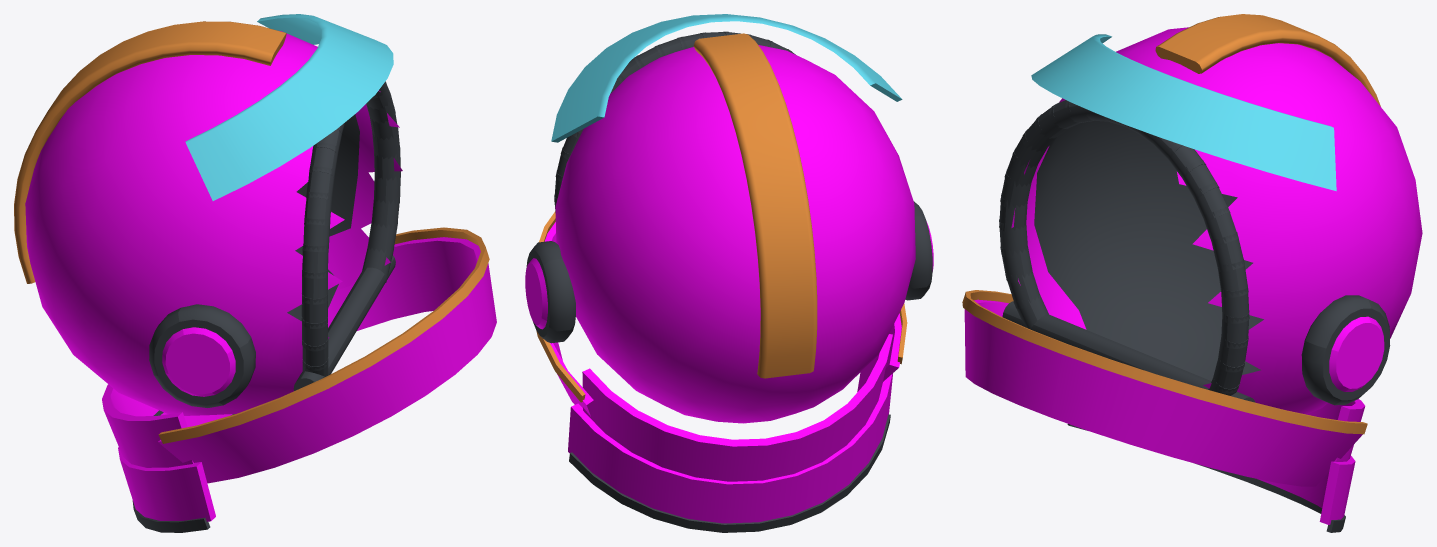
The model's file is objet_armure3_casque.glb.
The picture shows the model from 3 angles, left to right: view 1: azimuth 30°, elevation 25°; view 2: azimuth 150°, elevation 25°; view 3: azimuth 270°, elevation 25°; orthographic projection. The views are drawn at different scales.
Visible parts, largest first — view 1: tete__casque_teinte.010, tete__casque_teinte_sombre.010, tete__casque_visiere.004, tete__casque_composite_bande.002; view 2: tete__casque_teinte.010, tete__casque_composite_bande.002, tete__casque_teinte_sombre.010, tete__casque_visiere.004; view 3: tete__casque_teinte.010, tete__casque_teinte_sombre.010, tete__casque_visiere.004, tete__casque_composite_bande.002.
Part boxes in pixels (<box>): tete__casque_teinte.010: <box>25,31,496,521</box>; tete__casque_teinte_sombre.010: <box>132,81,400,532</box>; tete__casque_visiere.004: <box>185,14,393,200</box>; tete__casque_composite_bande.002: <box>14,21,489,443</box>; tete__casque_teinte.010: <box>525,45,933,523</box>; tete__casque_composite_bande.002: <box>536,33,907,402</box>; tete__casque_teinte_sombre.010: <box>526,31,932,532</box>; tete__casque_visiere.004: <box>551,14,902,142</box>; tete__casque_teinte.010: <box>964,27,1422,524</box>; tete__casque_teinte_sombre.010: <box>999,100,1390,532</box>; tete__casque_visiere.004: <box>1031,34,1336,191</box>; tete__casque_composite_bande.002: <box>962,14,1380,434</box>.
Bounding box in the file's own units: 0.2692 × 0.3157 × 0.2682.
